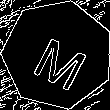M_NE: (25, 22, 90, 88)
